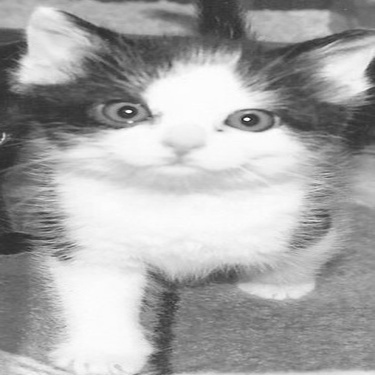cat: (24, 42, 366, 353)
